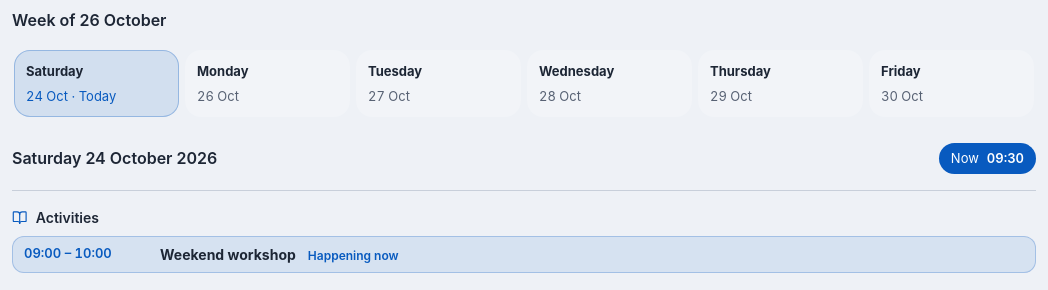
keeps the actual weekend day accessible alongside next week's tabs
Expected: the text "Weekend workshop" is shown, x1=160 y1=244 x2=296 y2=265
Expected: the text "Happening now" is shown, x1=308 y1=247 x2=399 y2=265
Step 1. Press the mouse on the tab "Monday 26 Oct" → (268, 84), box x1=185 y1=50 x2=350 y2=117
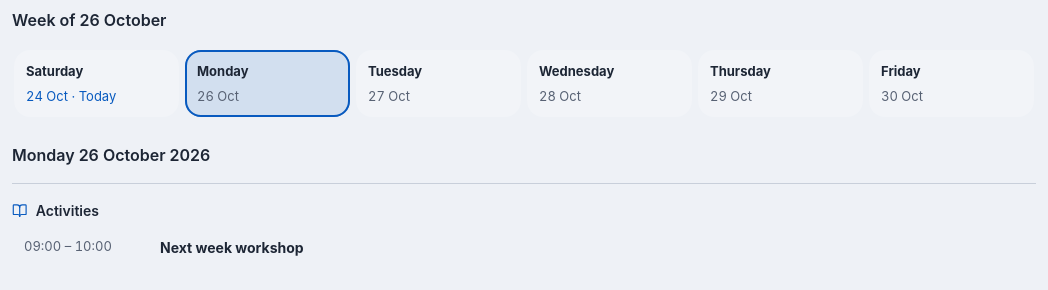
Expected: the text "Next week workshop" is shown, x1=160 y1=237 x2=304 y2=258
Step 2. Press the mouse on the tab "Saturday 24 Oct · Today" → (96, 84), box x1=14 y1=50 x2=179 y2=117
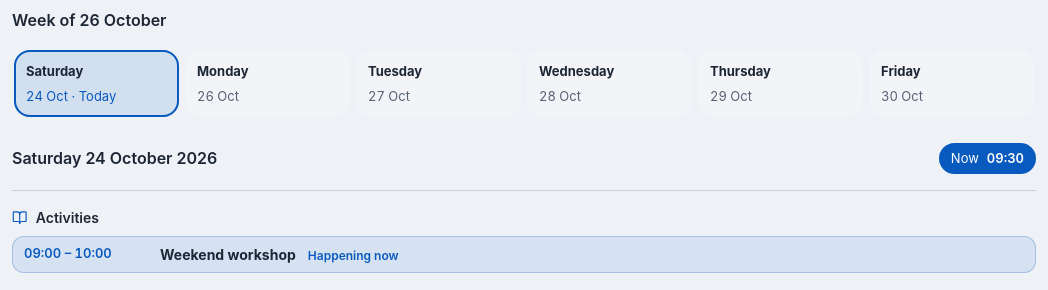
Expected: the text "Weekend workshop" is shown, x1=160 y1=244 x2=296 y2=265
